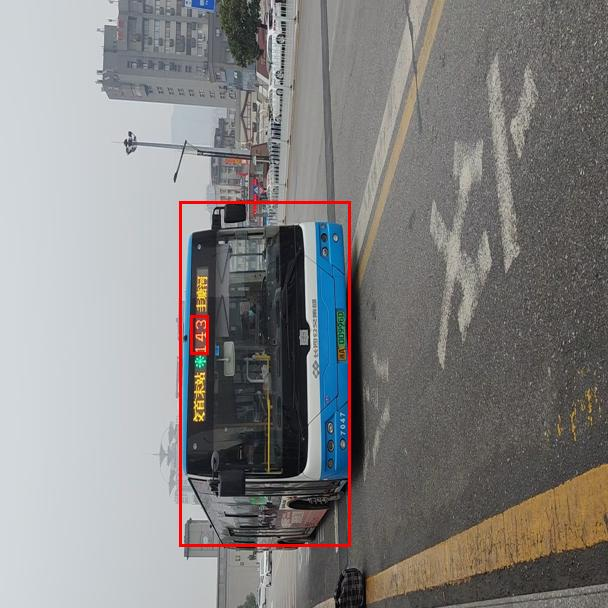bus: (179, 201, 350, 546)
screen: (190, 315, 208, 354)
